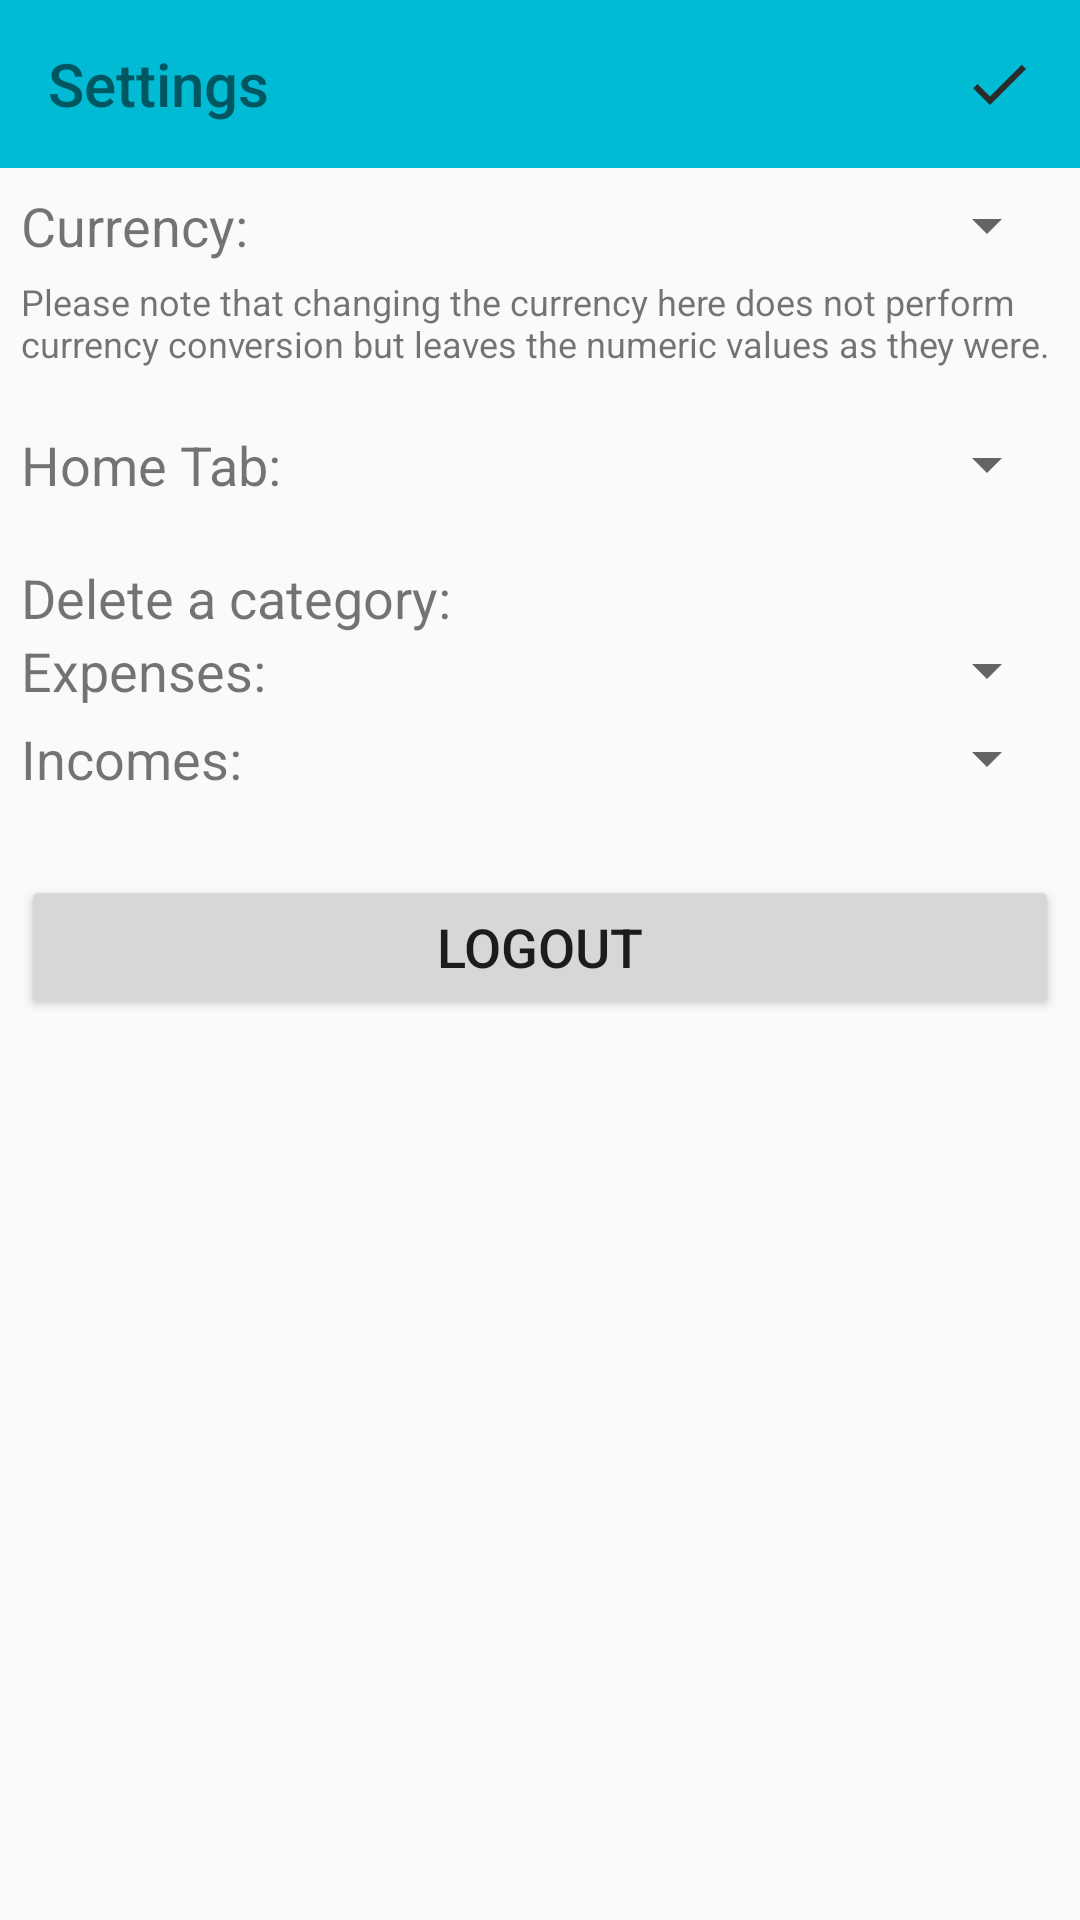

Where to tap for icons on this 1080w x 1920h app screen, as (x=x, y=y):
check: (x=999, y=85)
